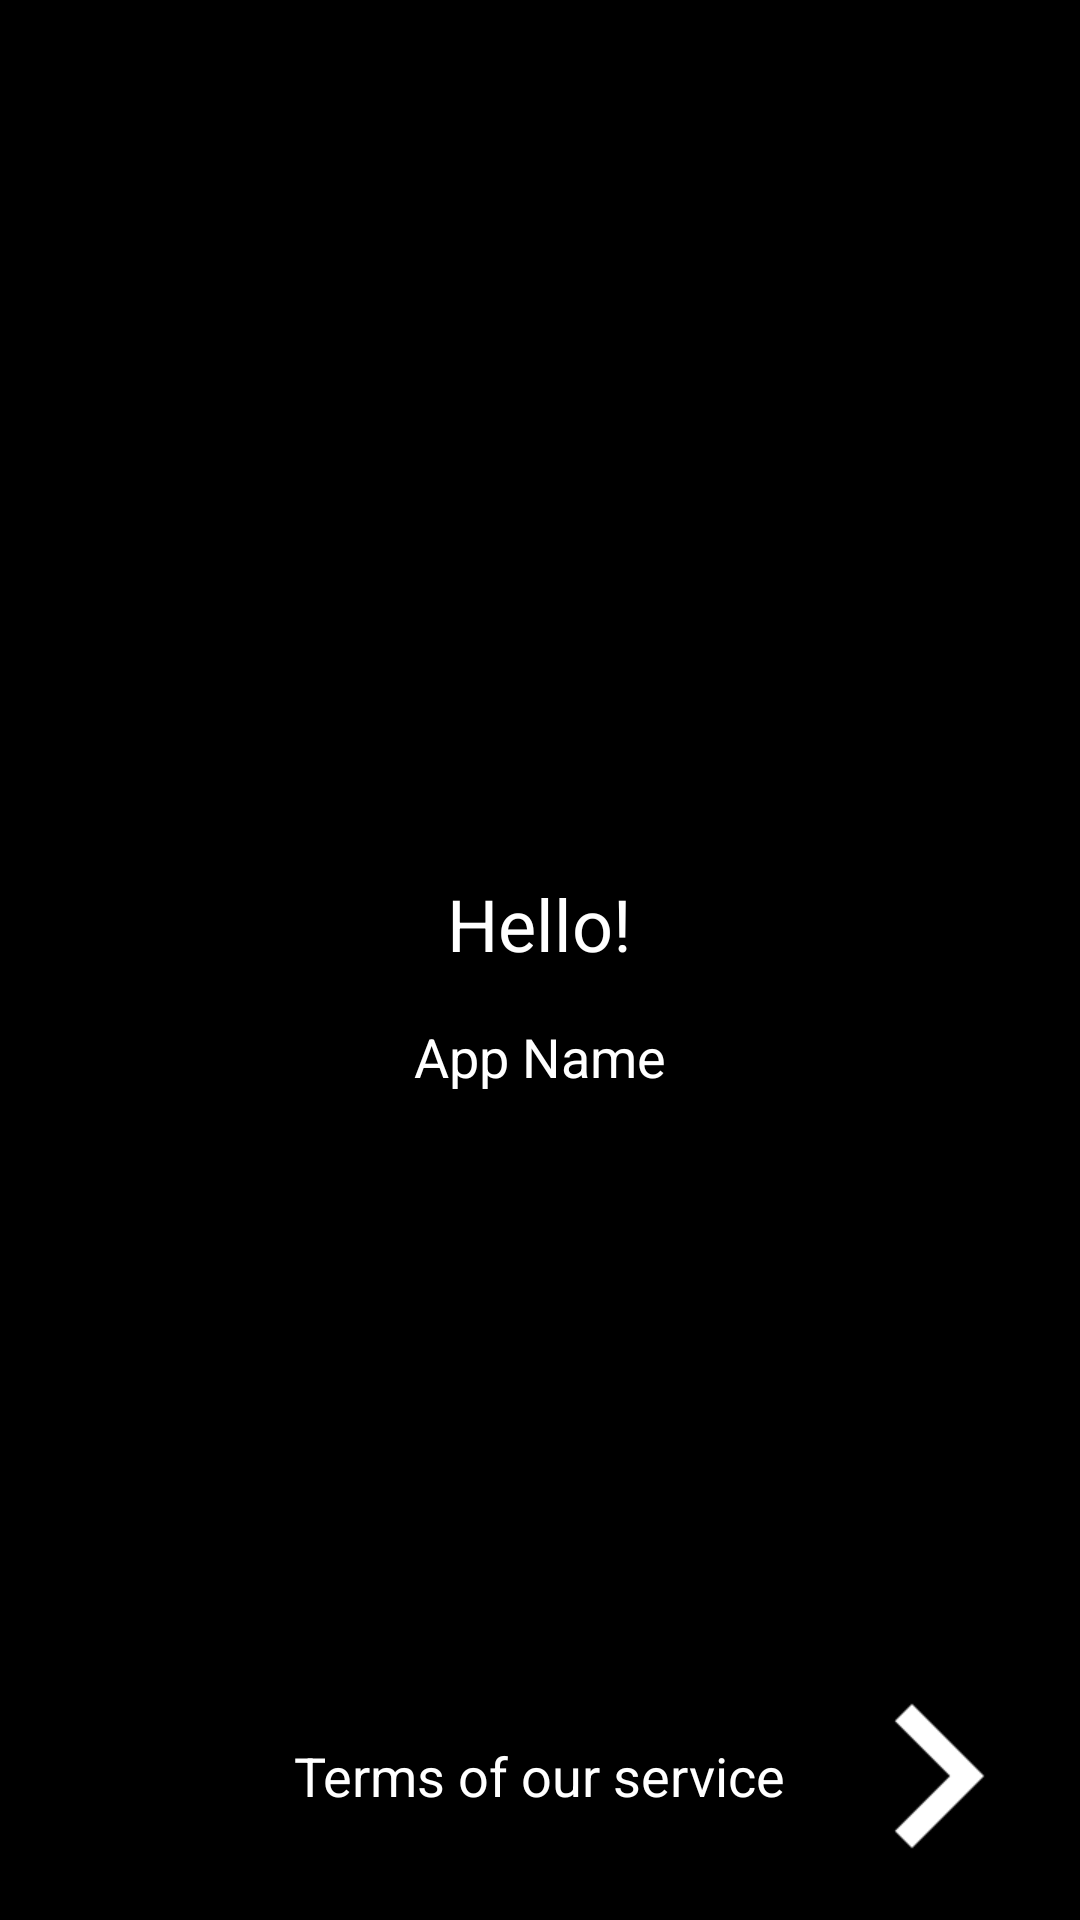

Point at icon controls on the screen. Image size 1080×1920, points as (x,y).
next: (939,1776)
